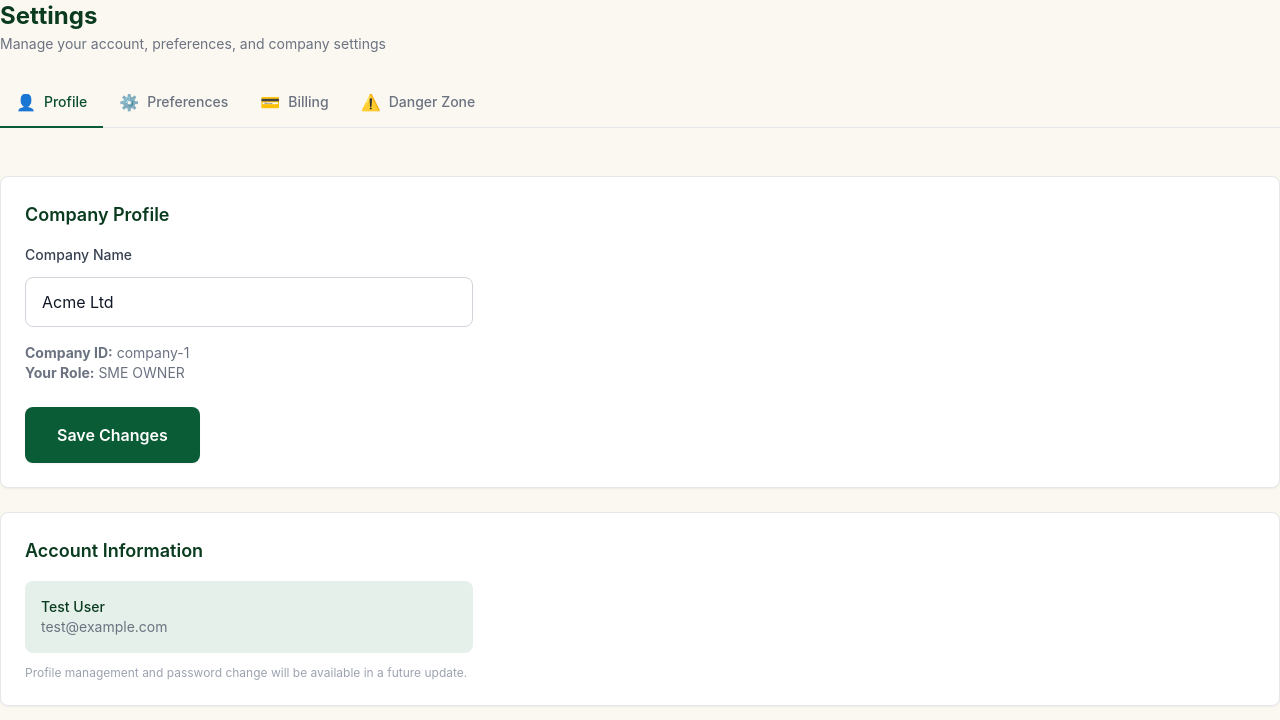
Test: Settings Page › disables confirm button until DELETE is typed
Click the text "Danger Zone" at (432, 102), box x1=389 y1=92 x2=475 y2=112
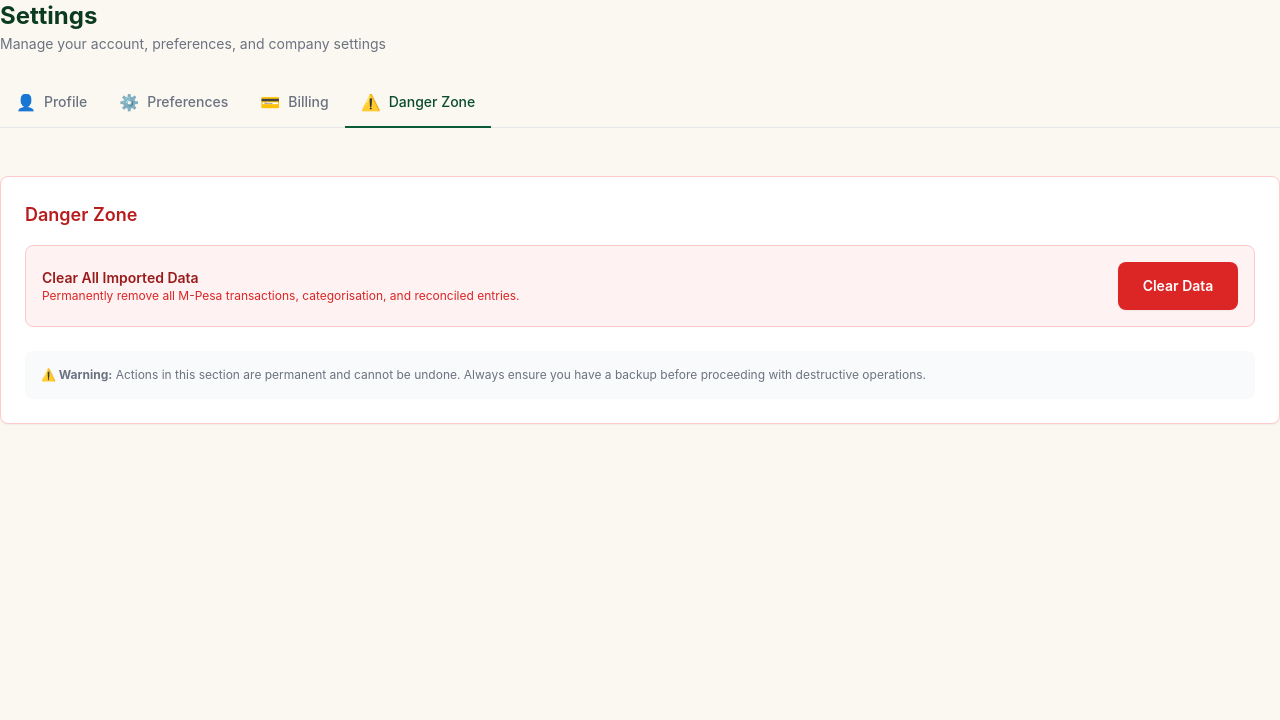
Click the button "Clear Data" at (1178, 286), box x1=1118 y1=262 x2=1238 y2=310
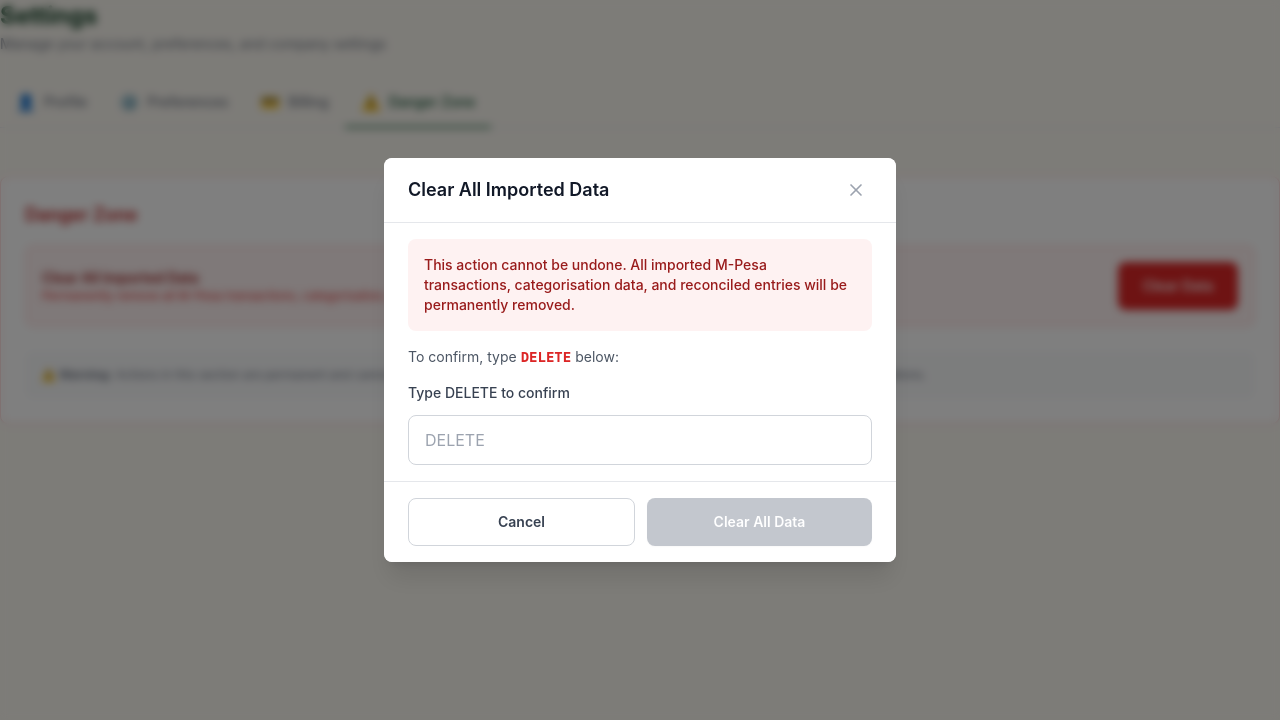
Expected: the button "Clear All Data" is disabled, x1=647 y1=498 x2=872 y2=546
Type partial text - still disabled
Type "DEL" into the field with placeholder "DELETE" at (640, 440), box x1=408 y1=415 x2=872 y2=465
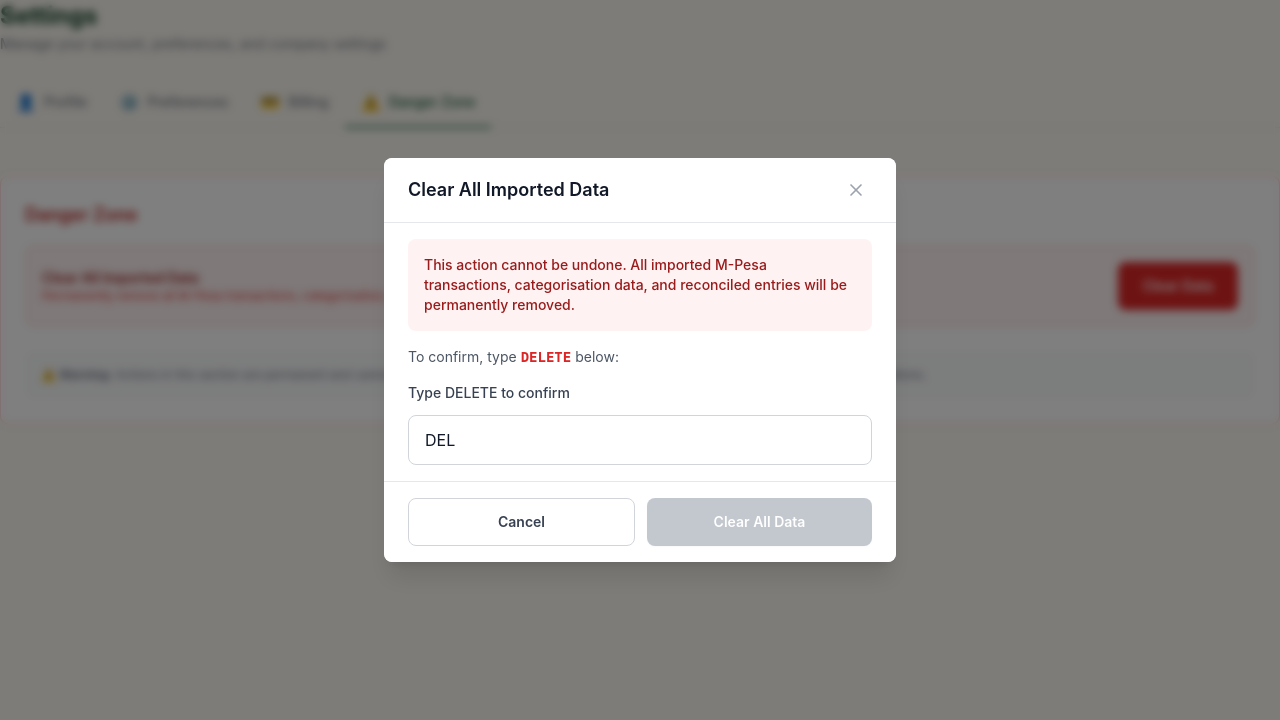
Expected: the button "Clear All Data" is disabled, x1=647 y1=498 x2=872 y2=546
Type full DELETE - now enabled
Replace the text in the field with placeholder "DELETE" with "DELETE" at (640, 440), box x1=408 y1=415 x2=872 y2=465
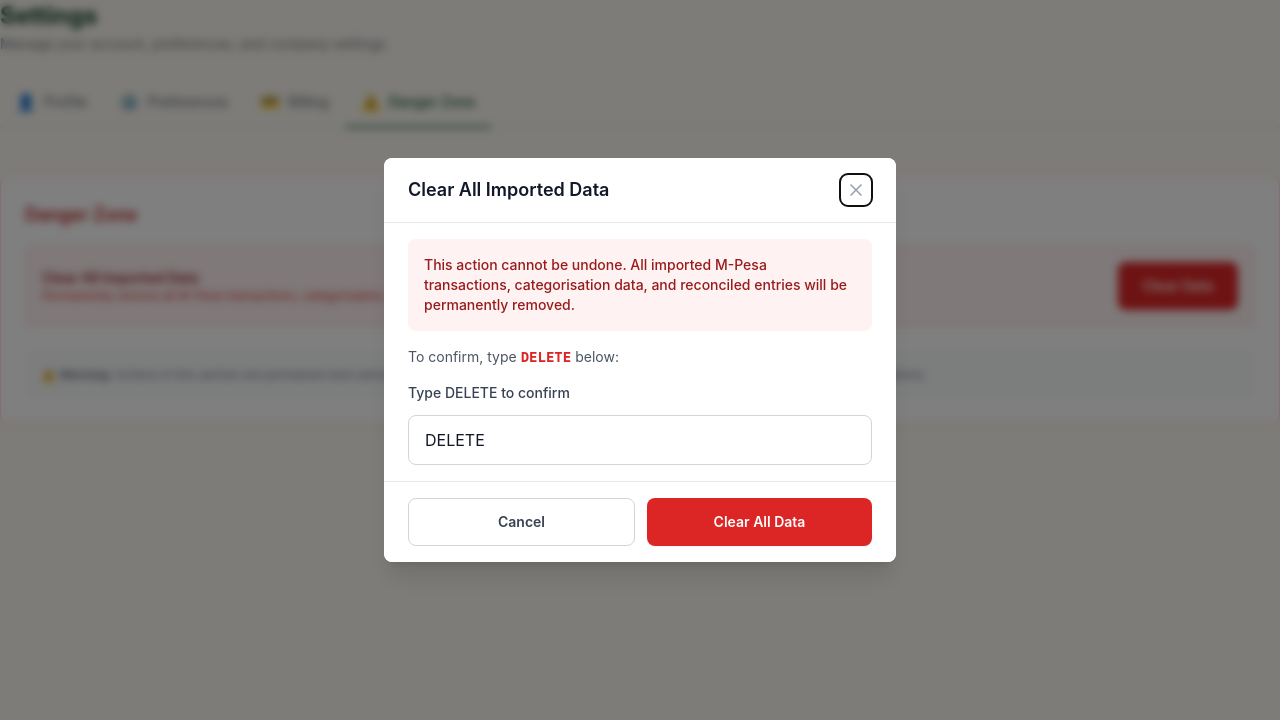
Expected: the button "Clear All Data" is enabled, x1=647 y1=498 x2=872 y2=546
